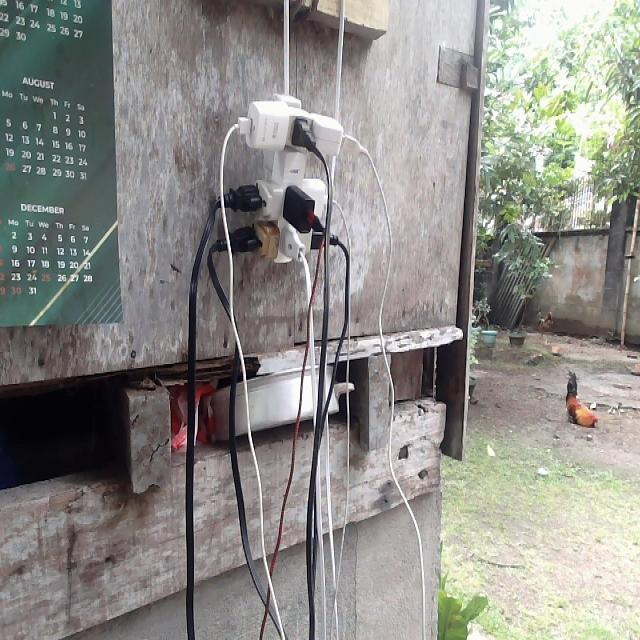-: (218, 91, 349, 264)
